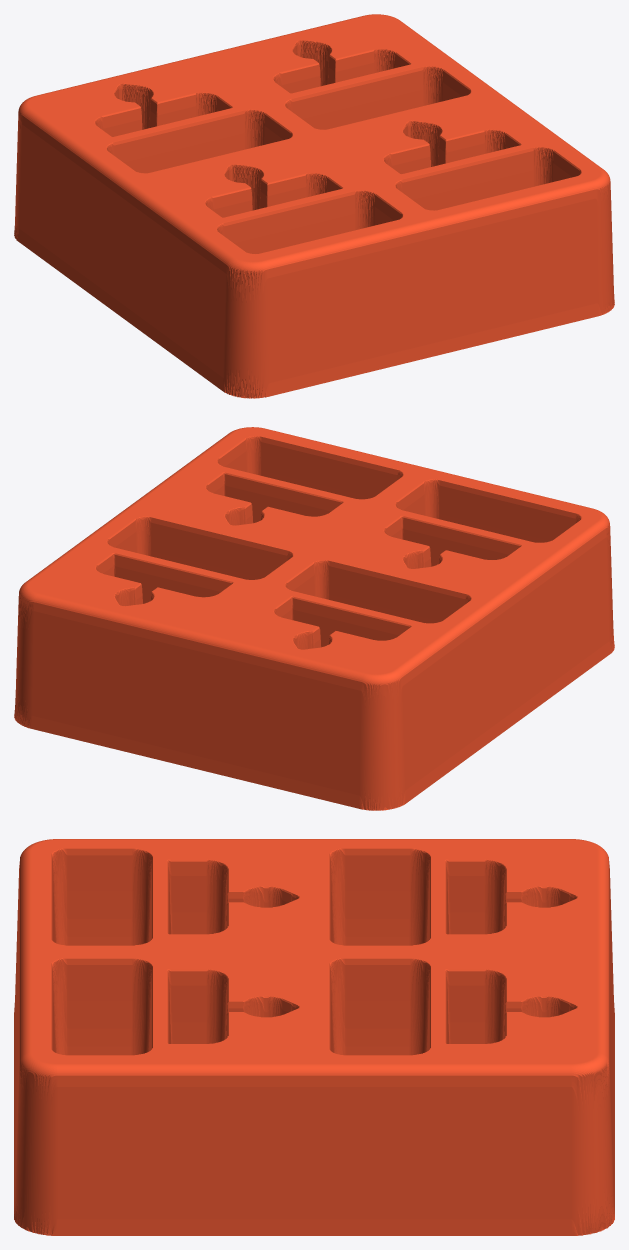
File: mold.glb
3 views of the same model, one above another, from view 1: azimuth 30°, elevation 25°; view 2: azimuth 150°, elevation 25°; view 3: azimuth 270°, elevation 25° (orthographic). The views are drawn at different scales.
Visible parts, largest first — view 1: geometry_0; view 2: geometry_0; view 3: geometry_0.
Part boxes in pixels (x1=…): geometry_0: x1=14, y1=14, x2=614, y2=398; geometry_0: x1=14, y1=427, x2=614, y2=810; geometry_0: x1=14, y1=839, x2=614, y2=1235.
Size of the model in its own units: 0.1172 by 0.0378 by 0.1248.
